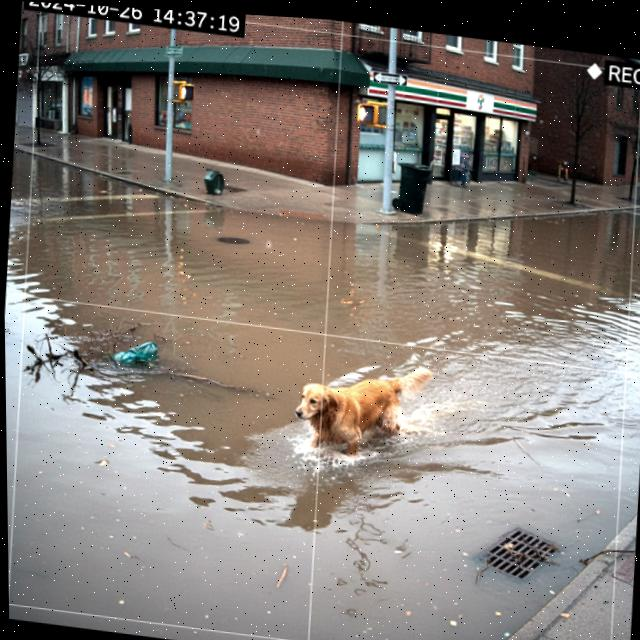dog: (278, 343, 446, 475)
